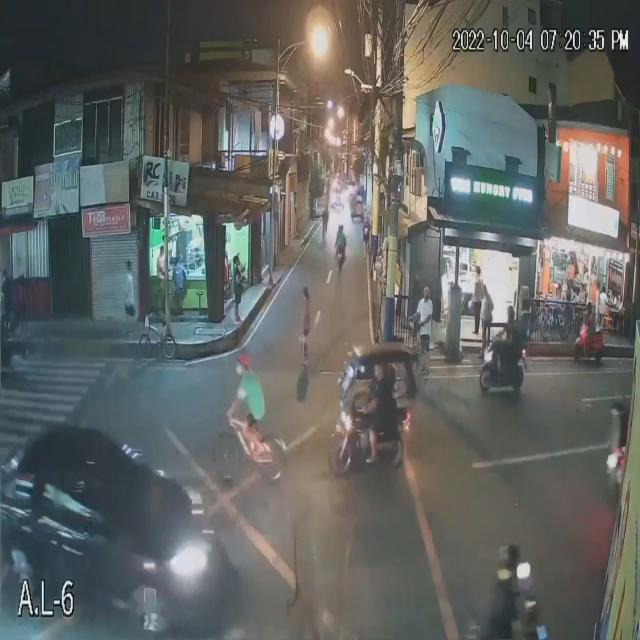Full-Faced: (505, 303, 515, 323)
